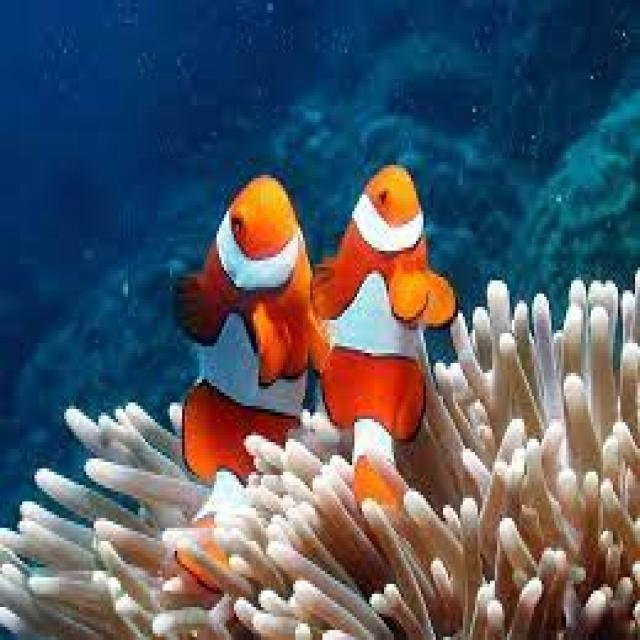ClownFish: (168, 173, 328, 586), (311, 158, 456, 496)
